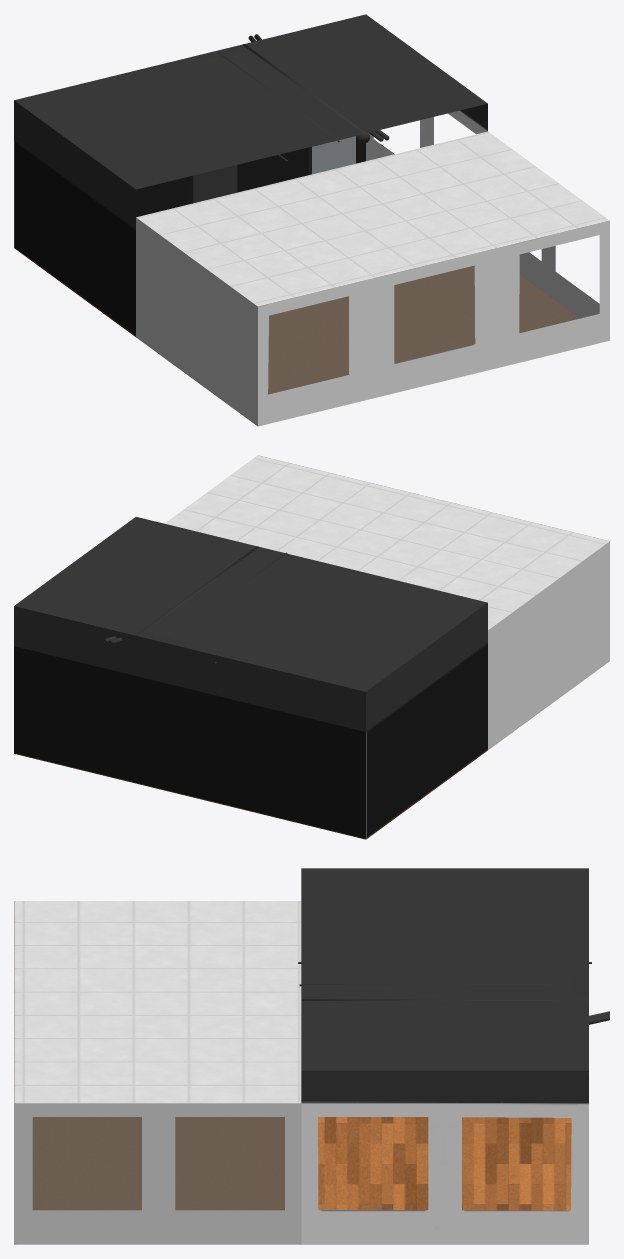
File: Room new.fbx
The picture shows the model from 3 angles, top to bottom: view 1: azimuth 30°, elevation 25°; view 2: azimuth 150°, elevation 25°; view 3: azimuth 270°, elevation 25°; orthographic projection. The views are drawn at different scales.
Parts seen in each view (by area): view 1: Room + walls, Wall devider.003, Wall devider, Cylinder.002; view 2: Room + walls; view 3: Room + walls, Cylinder.002.
Boxes of the visible parts, left/top/right/bottom form: Room + walls: left=14, top=14, right=609, bottom=426; Wall devider.003: left=190, top=46, right=239, bottom=203; Wall devider: left=308, top=136, right=355, bottom=174; Cylinder.002: left=242, top=44, right=370, bottom=143; Room + walls: left=14, top=455, right=609, bottom=839; Room + walls: left=14, top=868, right=588, bottom=1244; Cylinder.002: left=302, top=999, right=588, bottom=1000.
Size of the model in its own units: 1000 by 402 by 1244.
1 material, 1 textured.
